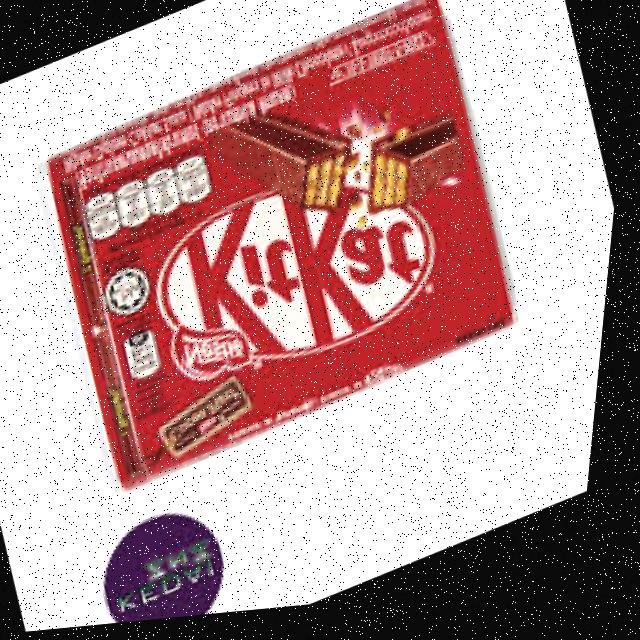kitkat: (15, 0, 561, 508)
